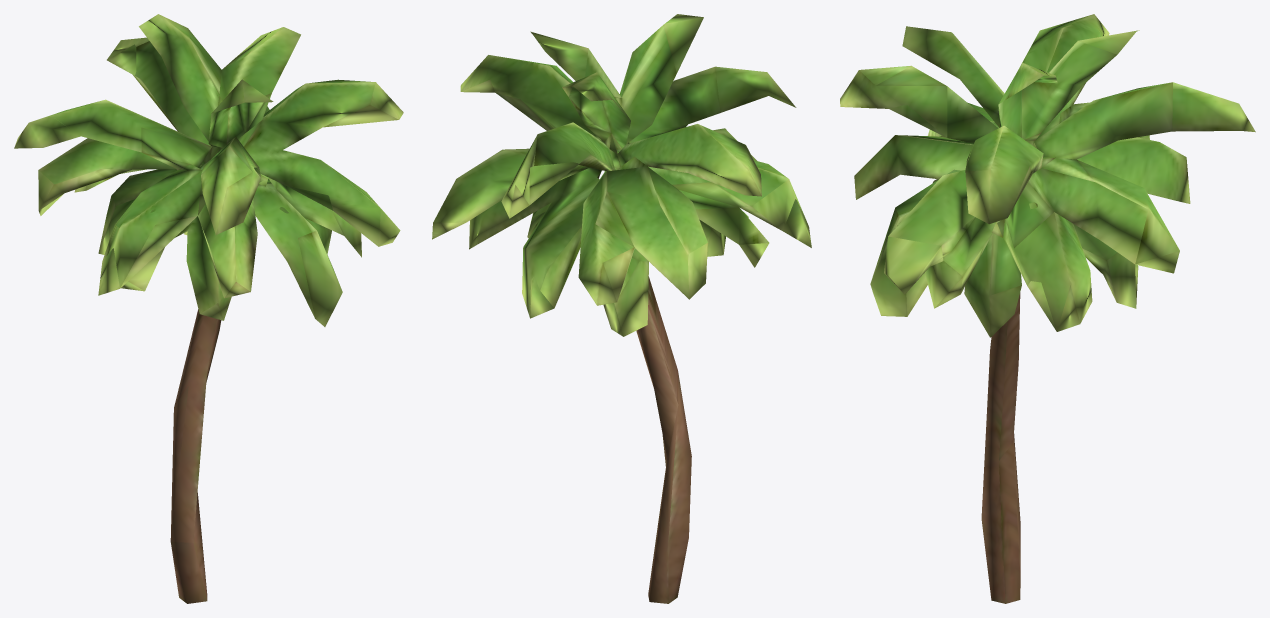
The model's file is palm_b_far.glb.
The picture shows the model from 3 angles, left to right: view 1: azimuth 30°, elevation 25°; view 2: azimuth 150°, elevation 25°; view 3: azimuth 270°, elevation 25°; orthographic projection. The views are drawn at different scales.
Parts seen in each view (by area): view 1: body; view 2: body; view 3: body.
Boxes of the visible parts, x1=… form: body: x1=14, y1=14, x2=403, y2=603; body: x1=432, y1=14, x2=811, y2=603; body: x1=840, y1=14, x2=1255, y2=603.
Bounding box in the file's own units: 4.34 × 6.5 × 4.23.
2 materials, 2 textured.
